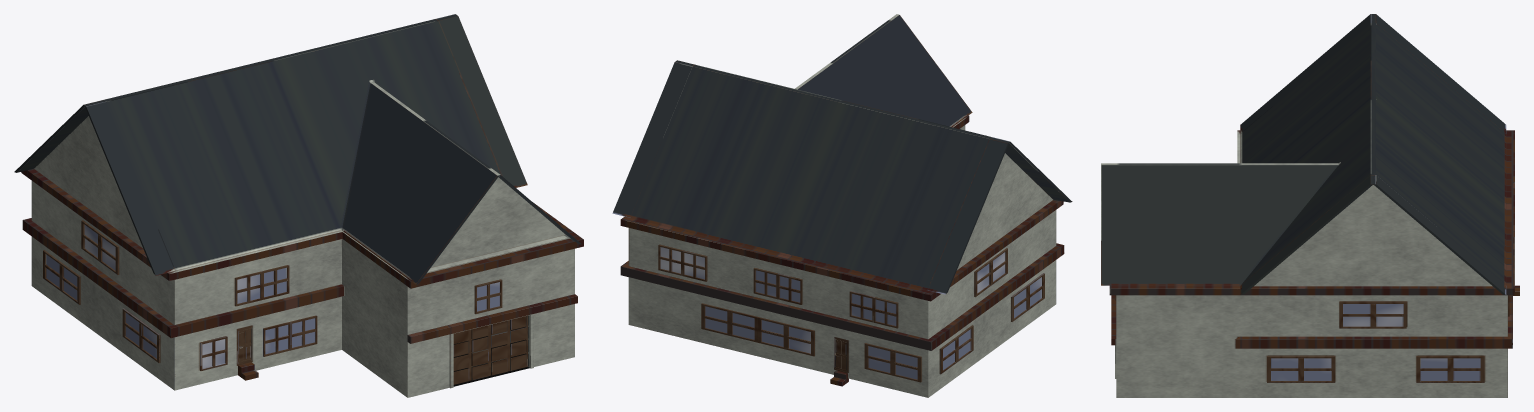
File: HouseAssetOneMatSpot.fbx
The picture shows the model from 3 angles, left to right: view 1: azimuth 30°, elevation 25°; view 2: azimuth 150°, elevation 25°; view 3: azimuth 270°, elevation 25°; orthographic projection. The views are drawn at different scales.
Visible parts, largest first — view 1: Bake; view 2: Bake; view 3: Bake.
Part boxes in pixels (x1,y1,x2,y2): Bake: (14,14,583,397); Bake: (612,14,1072,397); Bake: (1101,14,1519,397).
Size of the model in its own units: 2779 by 1725 by 2890.
